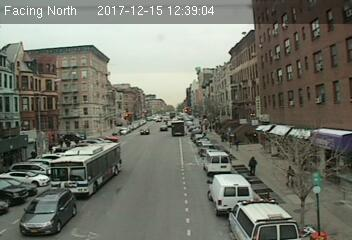bus: (46, 142, 124, 196)
car: (18, 190, 79, 236), (139, 127, 150, 135)
pedestrian: (285, 165, 295, 189), (247, 155, 257, 176)
police: (227, 199, 299, 240)
truck: (206, 173, 254, 214), (201, 150, 234, 177)
ups: (170, 120, 184, 136)
